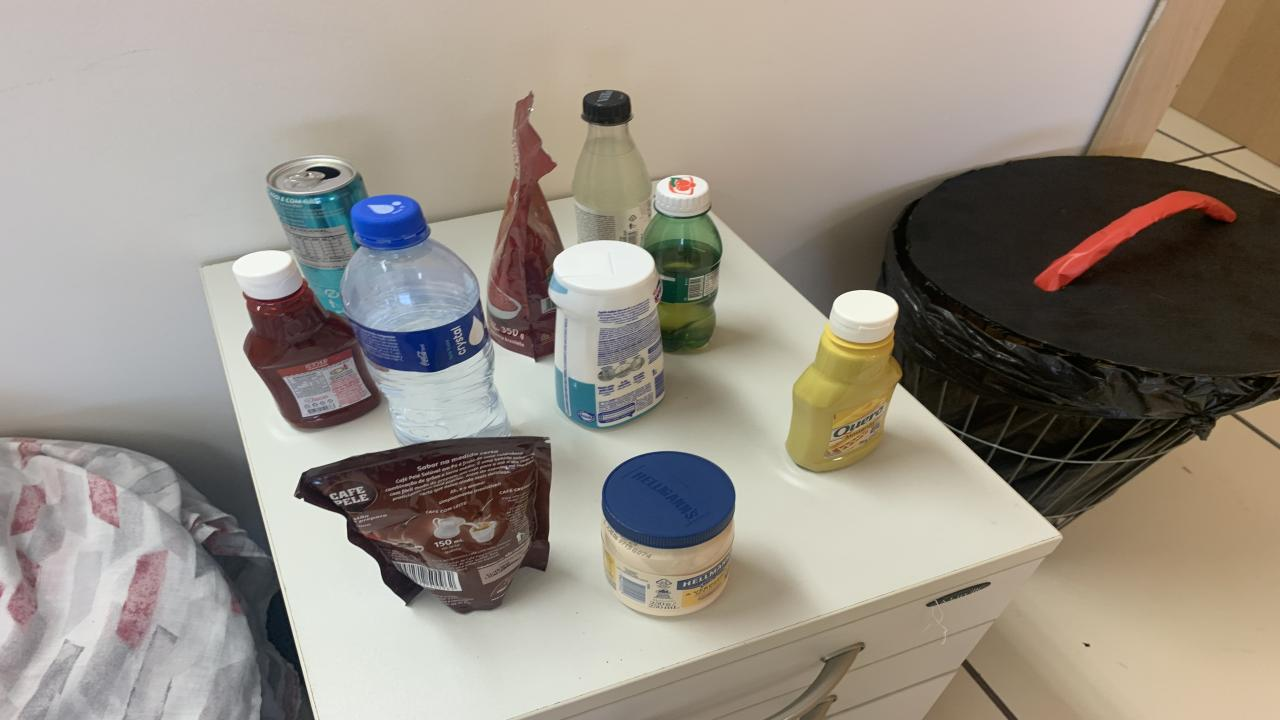Cleaner-Cleanup_Items: (550, 240, 665, 429)
Coffee-Pantry_Items: (295, 437, 550, 613)
Guarana-Drinks: (640, 174, 722, 351)
Ketchup-Pantry_Items: (232, 249, 380, 429)
Mayonnaise-Pantry_Items: (602, 452, 735, 617)
Mustard-Pantry_Items: (785, 291, 900, 471)
Soda-Drinks: (572, 90, 652, 246)
Tea-Drinks: (265, 156, 368, 313)
Tomato_Sauce-Pantry_Items: (488, 92, 562, 358)
Water_Bottle-Drinks: (340, 195, 510, 442)
